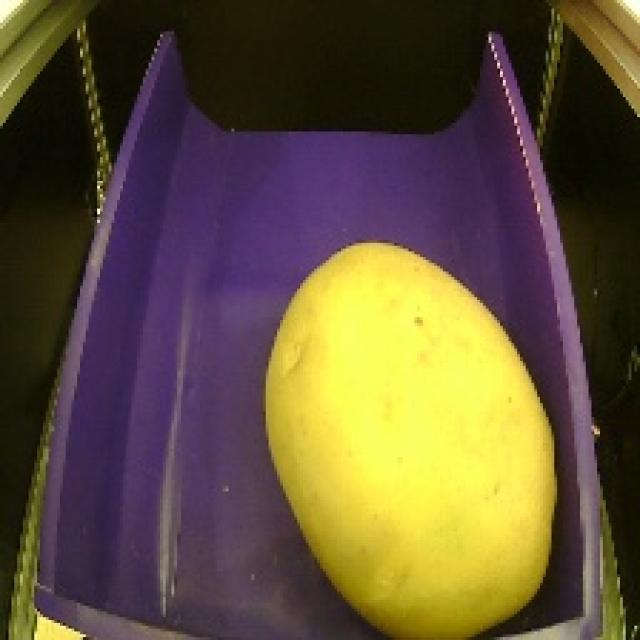full_potato: (257, 226, 569, 640)
